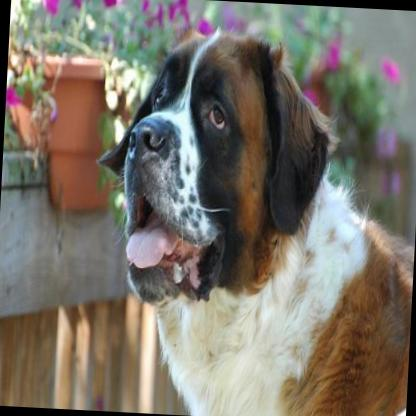Saint_Bernard: (82, 15, 416, 416)
